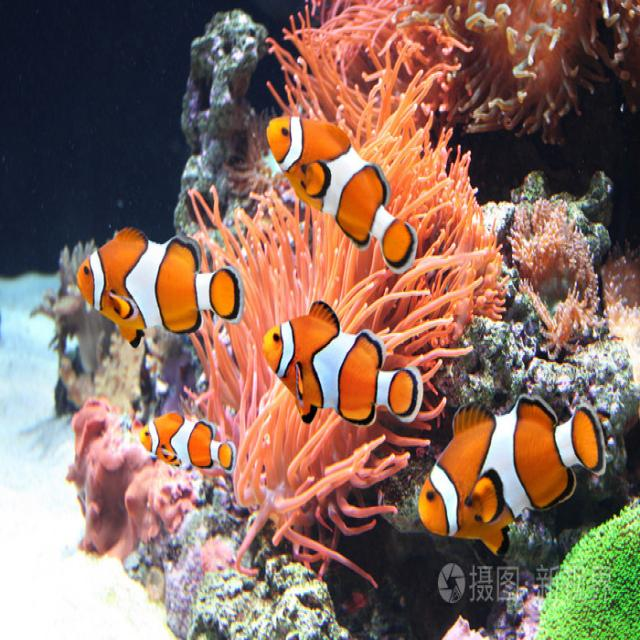ClownFish: (416, 394, 608, 542), (266, 111, 417, 276), (73, 225, 243, 348), (262, 300, 425, 426), (136, 414, 238, 480)
